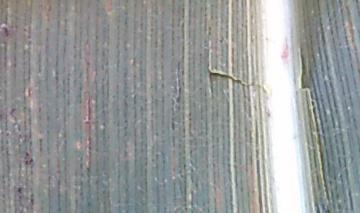tarspot: (1, 25, 10, 38), (16, 186, 24, 193)
